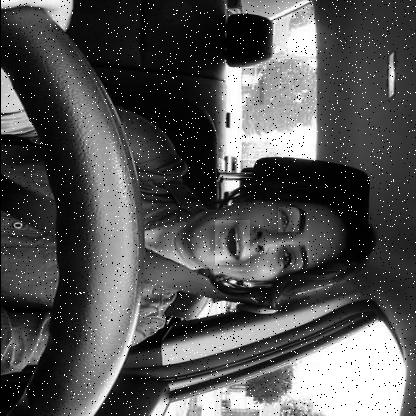seatbelt: (0, 175, 383, 306)
